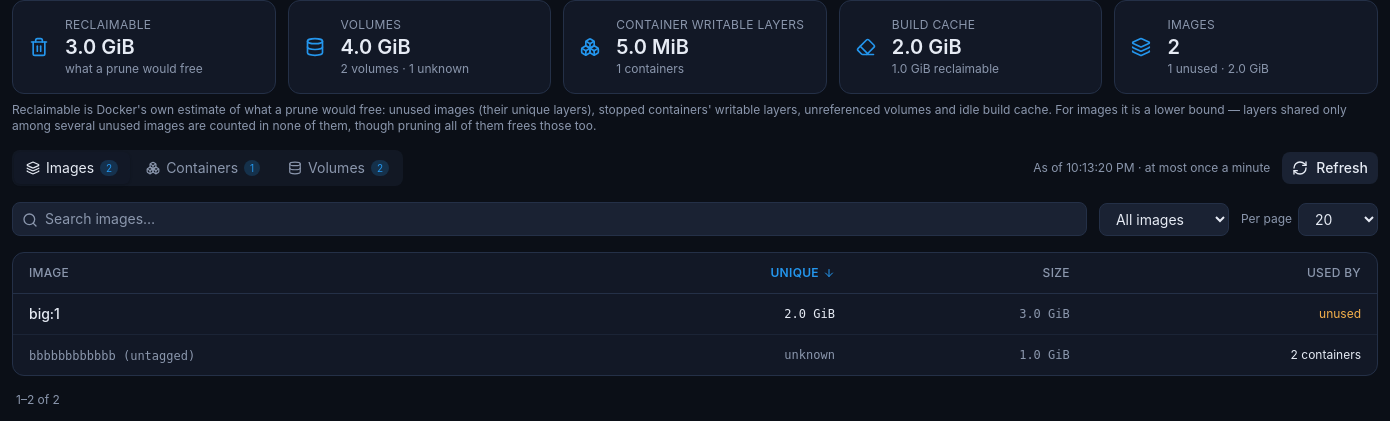
it: DiskTab › shows an unmeasured volume as unknown, not 0, and counts it in the KPI
Click the button "Volumes 2" at (339, 168), box x1=276 y1=152 x2=401 y2=184
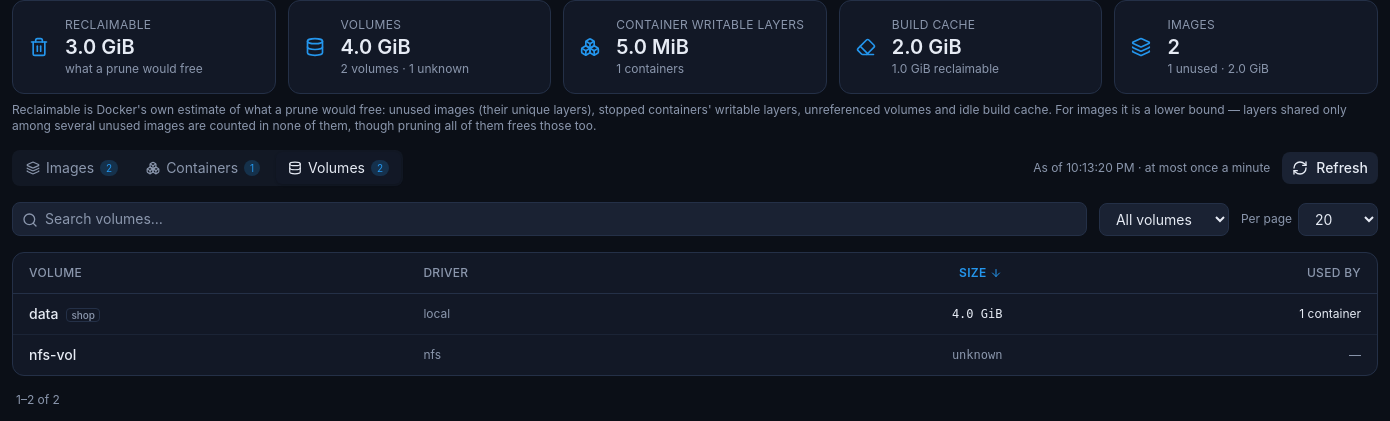
expect the text "unknown" is shown: met, box x1=341 y1=61 x2=469 y2=76
expect the text "nfs-vol" is shown: met, box x1=13 y1=334 x2=407 y2=375
